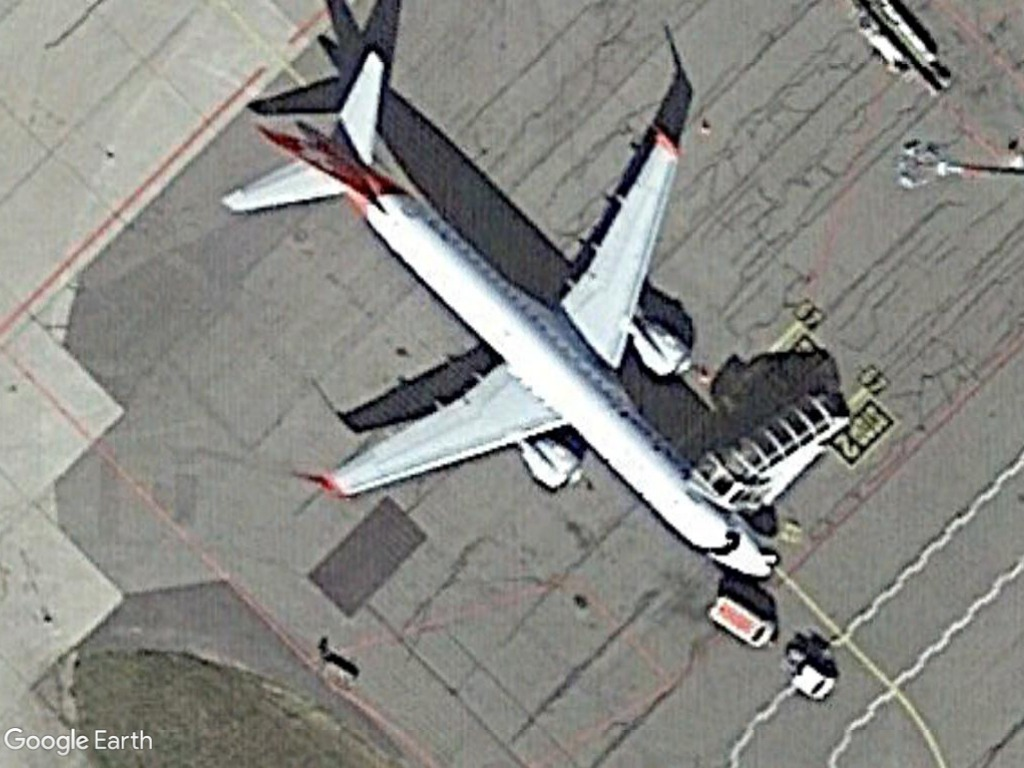airliner: (214, 44, 780, 585)
